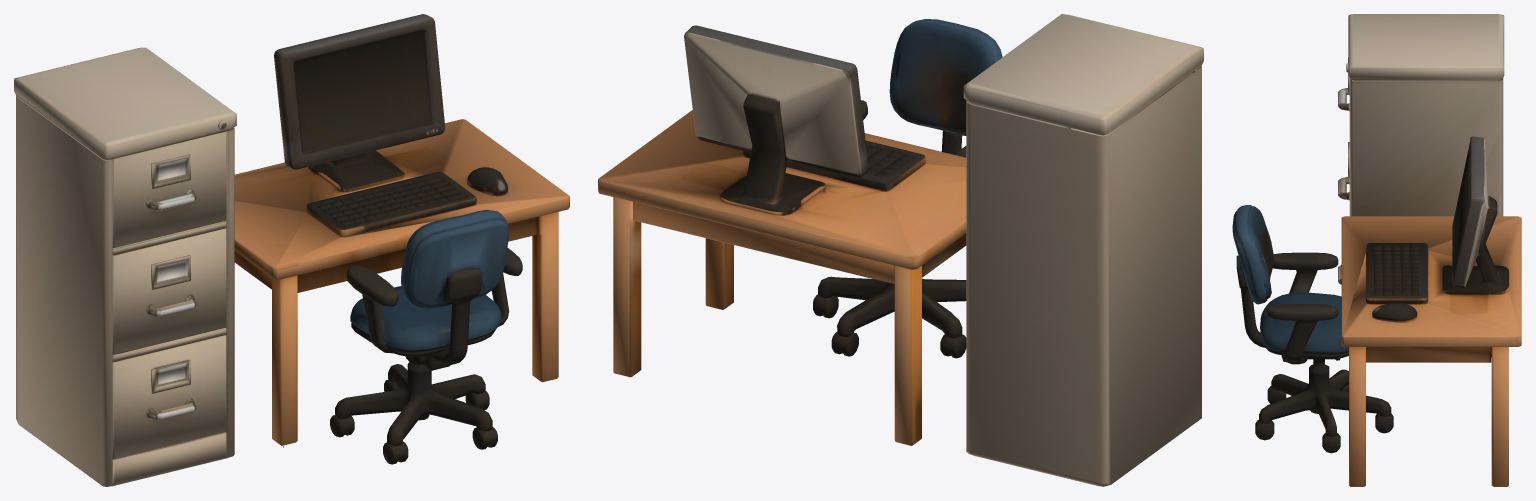
Rendered from filing_cabinet_and_desk_with_computer_85ad453f_v4.glb.
3 views of the same model, side by side, from view 1: azimuth 30°, elevation 25°; view 2: azimuth 150°, elevation 25°; view 3: azimuth 270°, elevation 25° (orthographic). The views are drawn at different scales.
Visible parts, largest first — view 1: material; view 2: material; view 3: material.
Boxes of the visible parts, x1=… form: material: x1=14, y1=14, x2=569, y2=486; material: x1=598, y1=14, x2=1203, y2=486; material: x1=1232, y1=14, x2=1521, y2=486.
Bounding box in the file's own units: 1.9 × 1.36 × 1.23.
Materials: 1 (1 with a texture image).
